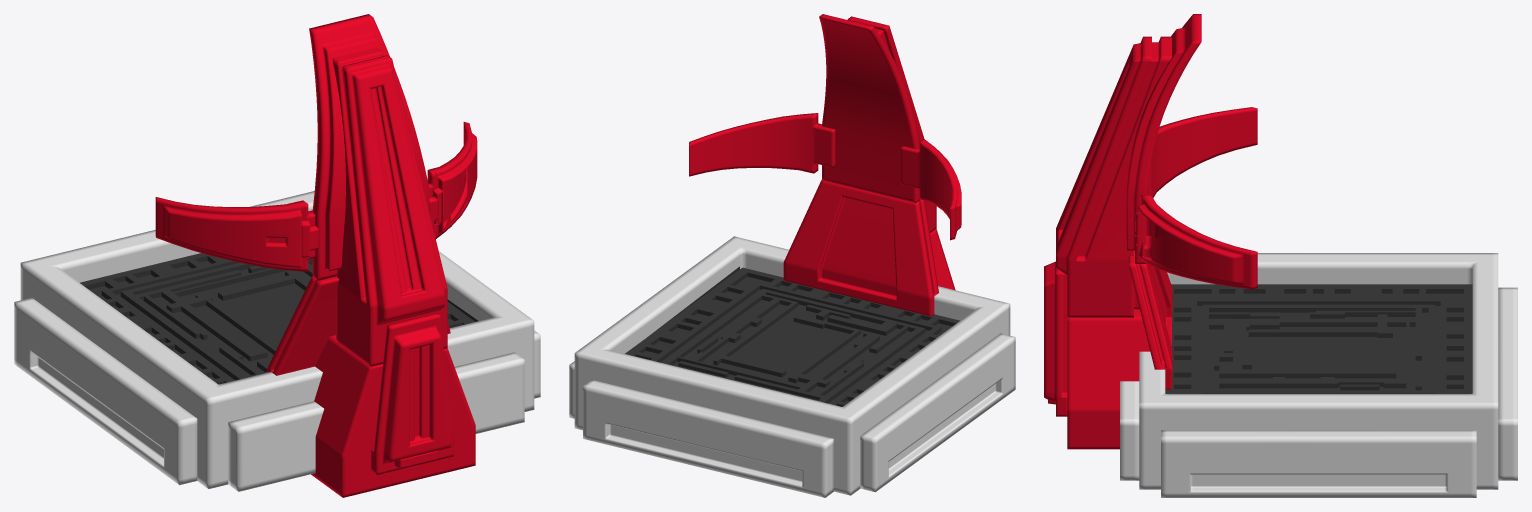
The model's file is EggIncubator.fbx.
3 renders of one model, left to right at view 1: azimuth 30°, elevation 25°; view 2: azimuth 150°, elevation 25°; view 3: azimuth 270°, elevation 25°, orthographic. The views are drawn at different scales.
Visible parts, largest first — view 1: precursor_egg_incubator_MeshPart0; view 2: precursor_egg_incubator_MeshPart0; view 3: precursor_egg_incubator_MeshPart0.
Part boxes in pixels (left/top/right/bottom): precursor_egg_incubator_MeshPart0: left=14, top=14, right=540, bottom=497; precursor_egg_incubator_MeshPart0: left=569, top=14, right=1015, bottom=497; precursor_egg_incubator_MeshPart0: left=1044, top=14, right=1517, bottom=497.
Size of the model in its own units: 216 by 234 by 258.
